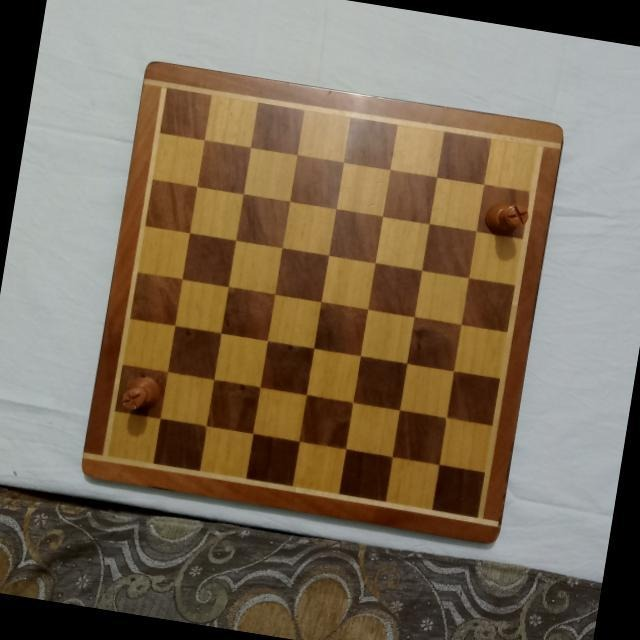white-rook: (116, 372, 164, 418), (482, 199, 531, 241)
